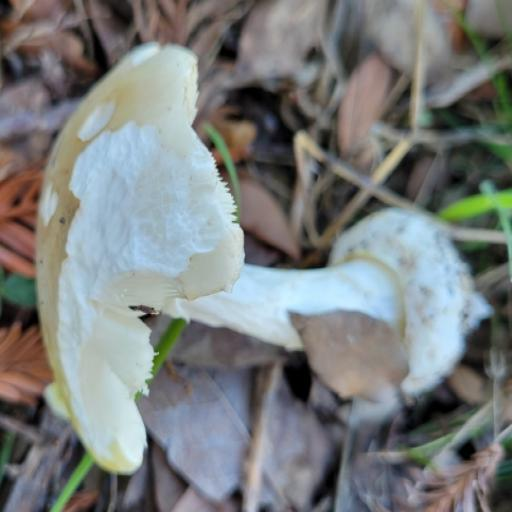mushroom: (0, 0, 491, 479)
